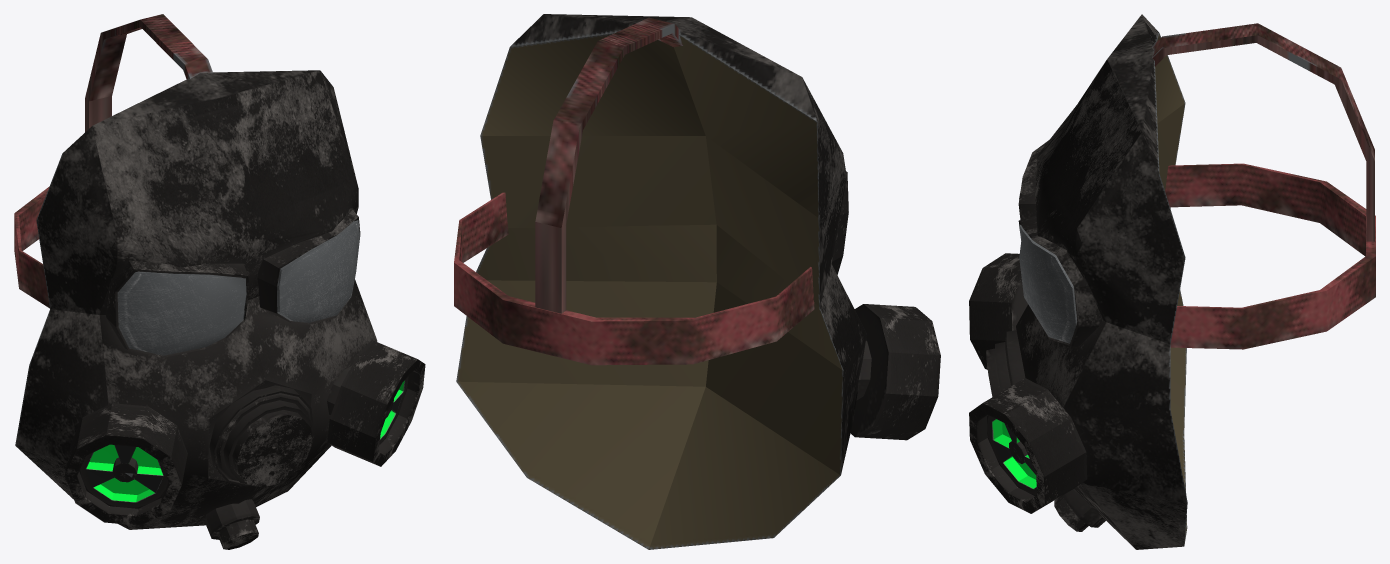
3 views of the same model, side by side, from view 1: azimuth 30°, elevation 25°; view 2: azimuth 150°, elevation 25°; view 3: azimuth 270°, elevation 25° (orthographic). The views are drawn at different scales.
Visible parts, largest first — view 1: Object_2; view 2: Object_2; view 3: Object_2.
Boxes of the visible parts, x1=… form: Object_2: x1=14, y1=14, x2=425, y2=549; Object_2: x1=454, y1=14, x2=940, y2=549; Object_2: x1=969, y1=14, x2=1375, y2=549.
Bounding box in the file's own units: 1.56 × 1.96 × 1.45.
1 material, 1 textured.
